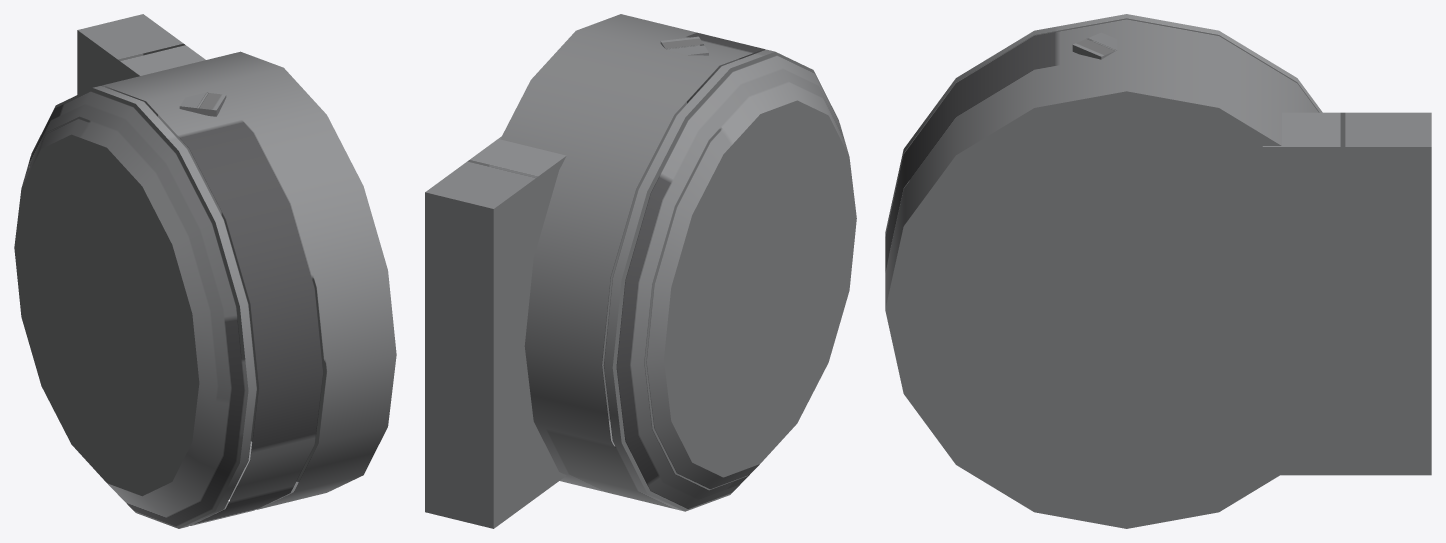
3 renders of one model, left to right at view 1: azimuth 30°, elevation 25°; view 2: azimuth 150°, elevation 25°; view 3: azimuth 270°, elevation 25°, orthographic. The views are drawn at different scales.
Bounding box in the file's own units: 0.87 × 1.9 × 2.15.
